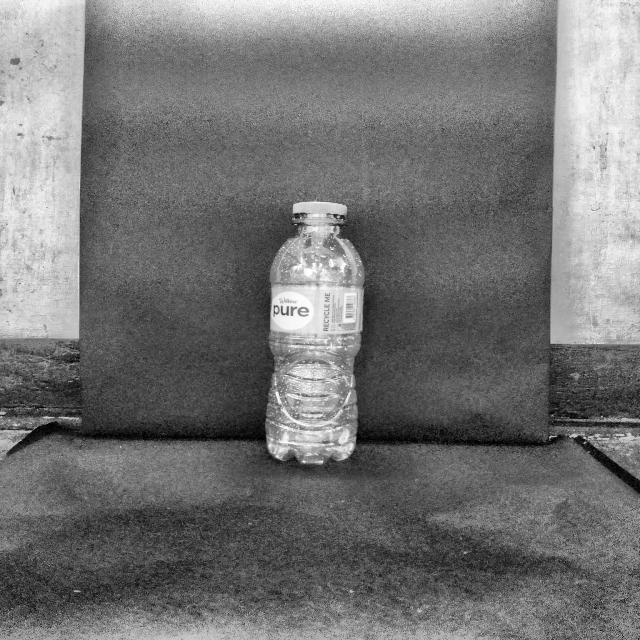Plastic-Bottle: (264, 199, 366, 466)
